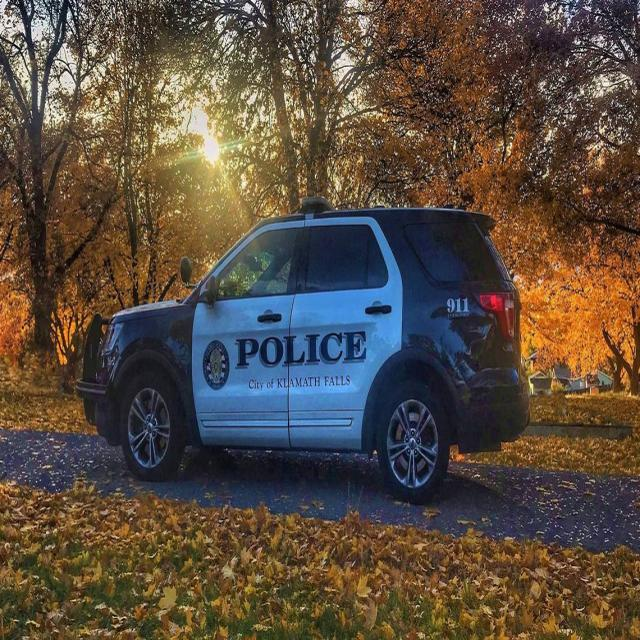cop: (82, 197, 526, 492)
